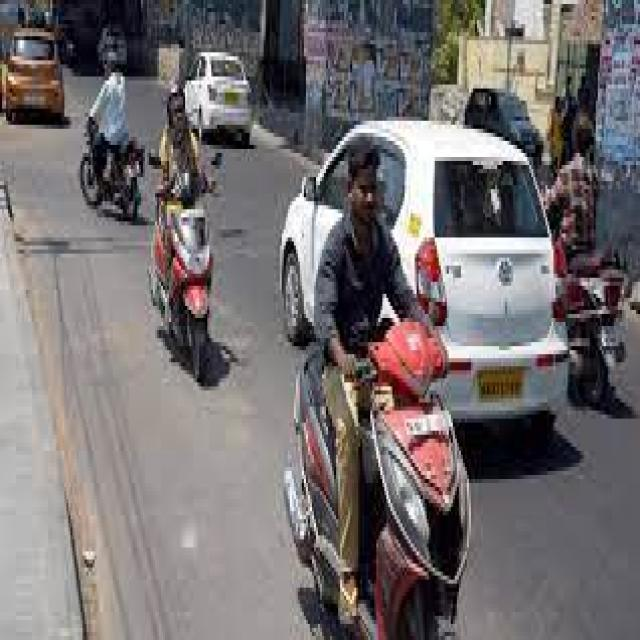Not Wearing Helmet: (316, 101, 383, 262), (95, 48, 124, 80)
